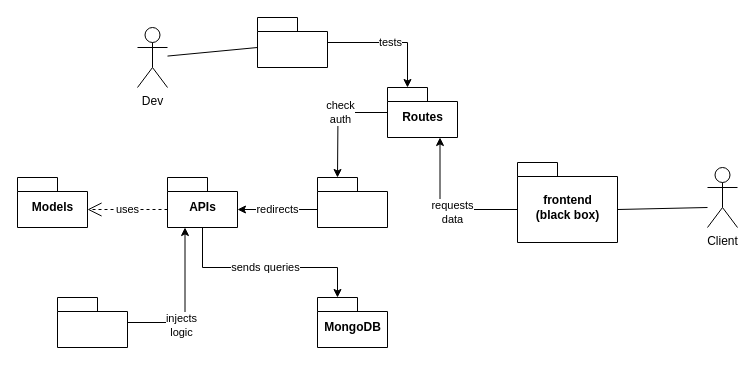
This 755x365 diagram has some shape labels left out. The box of each missing label's shape, as (x1, y1, x2, y2) in pixels:
Middelwares: (316, 176, 388, 228)
Postman: (256, 16, 328, 68)
Services: (56, 296, 128, 348)
